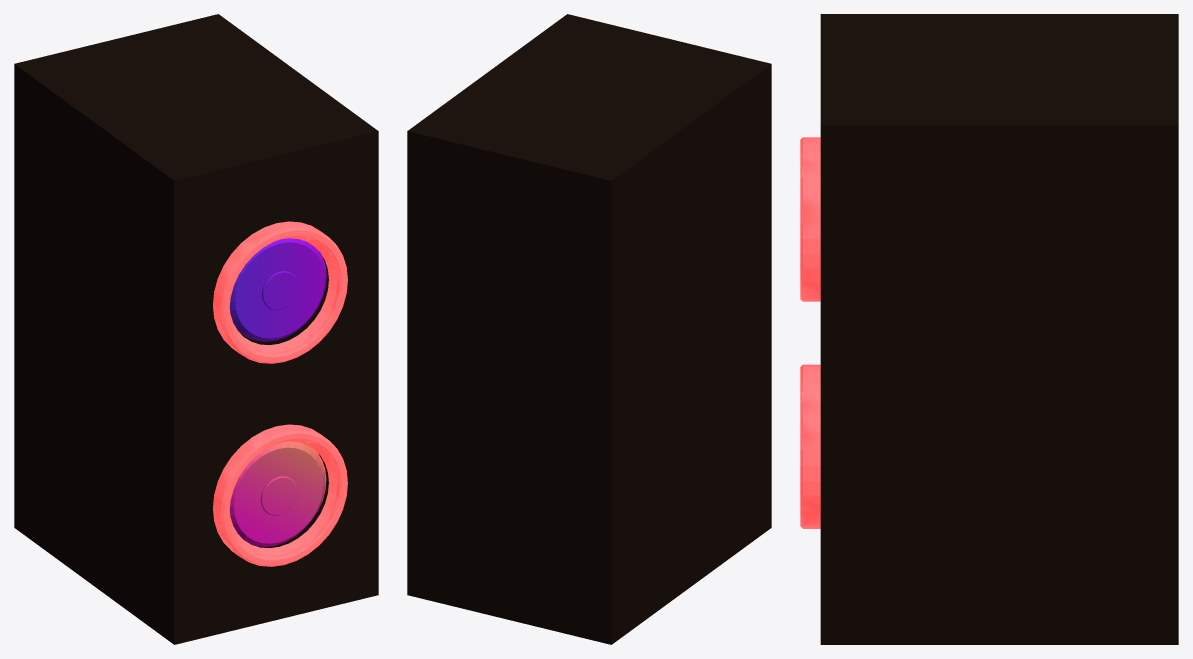
The picture shows the model from 3 angles, left to right: view 1: azimuth 30°, elevation 25°; view 2: azimuth 150°, elevation 25°; view 3: azimuth 270°, elevation 25°; orthographic projection. The views are drawn at different scales.
Parts seen in each view (by area): view 1: Body; view 2: Body; view 3: Body.
Boxes of the visible parts, x1,y1,x2,y2 form: Body: (14,14,378,644); Body: (407,14,771,644); Body: (800,14,1178,644).
Size of what is drawn, in the model's own units: 1.47 by 3.2 by 2.11.
Materials: 3 (1 with a texture image).
